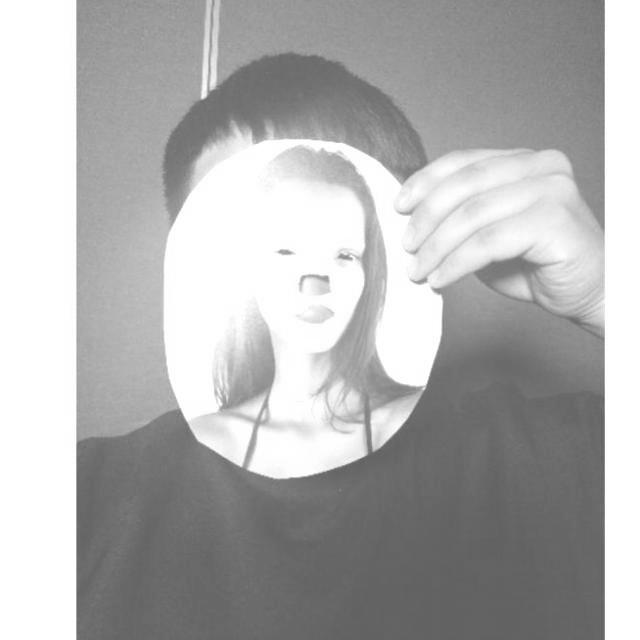fake: (158, 136, 448, 482)
